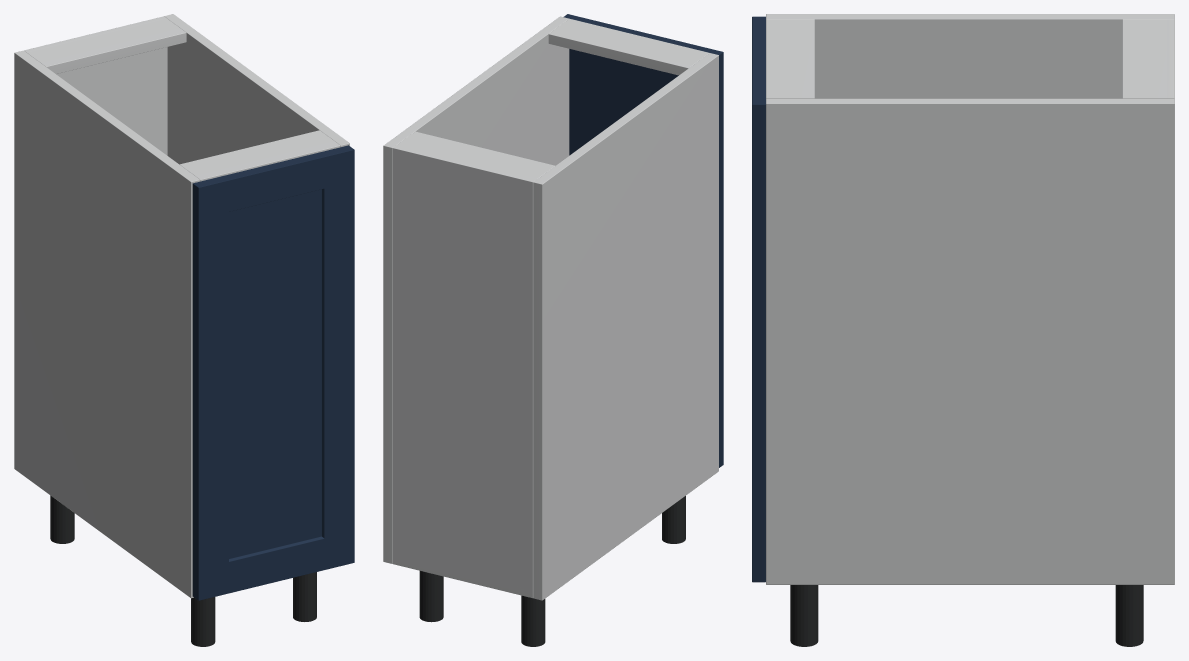
Rendered from oppein-pb-bss-b12fh.glb.
3 views of the same model, side by side, from view 1: azimuth 30°, elevation 25°; view 2: azimuth 150°, elevation 25°; view 3: azimuth 270°, elevation 25° (orthographic). The views are drawn at different scales.
Parts seen in each view (by area): view 1: Cabinet side, Door, Cabinet side.001, Cabinet back, Top support rail, Top support rail.001, Adjustable foot.001, Adjustable foot.003, Adjustable foot; view 2: Cabinet side, Cabinet back, Cabinet side.001, Door, Top support rail.001, Top support rail, Adjustable foot, Adjustable foot.002, Adjustable foot.001, Cabinet bottom; view 3: Cabinet side.001, Cabinet side, Door, Top support rail.001, Top support rail, Adjustable foot.002, Adjustable foot.003, Cabinet back.
Boxes of the visible parts, left/top/right/bottom form: Cabinet side: left=14, top=50, right=200, bottom=598; Door: left=192, top=145, right=354, bottom=600; Cabinet side.001: left=164, top=14, right=349, bottom=164; Cabinet back: left=24, top=16, right=167, bottom=155; Top support rail: left=25, top=18, right=186, bottom=73; Top support rail.001: left=179, top=130, right=340, bottom=181; Adjustable foot.001: left=191, top=597, right=215, bottom=646; Adjustable foot.003: left=293, top=572, right=316, bottom=621; Adjustable foot: left=50, top=495, right=74, bottom=543; Cabinet side: left=533, top=53, right=718, bottom=600; Cabinet back: left=393, top=145, right=535, bottom=598; Cabinet side.001: left=383, top=16, right=569, bottom=563; Door: left=563, top=14, right=723, bottom=467; Top support rail.001: left=548, top=18, right=709, bottom=75; Top support rail: left=396, top=131, right=554, bottom=179; Adjustable foot: left=521, top=595, right=545, bottom=646; Adjustable foot.002: left=419, top=571, right=443, bottom=622; Adjustable foot.001: left=662, top=496, right=685, bottom=543; Cabinet bottom: left=393, top=562, right=533, bottom=597; Cabinet side.001: left=766, top=98, right=1174, bottom=584; Cabinet side: left=766, top=14, right=1174, bottom=98; Door: left=752, top=16, right=765, bottom=582; Top support rail.001: left=766, top=19, right=814, bottom=98; Top support rail: left=1122, top=19, right=1166, bottom=98; Adjustable foot.002: left=1115, top=585, right=1143, bottom=646; Adjustable foot.003: left=790, top=585, right=818, bottom=646; Cabinet back: left=1167, top=19, right=1174, bottom=98.
Size of the model in its own units: 0.3048 by 0.8763 by 0.6064.
